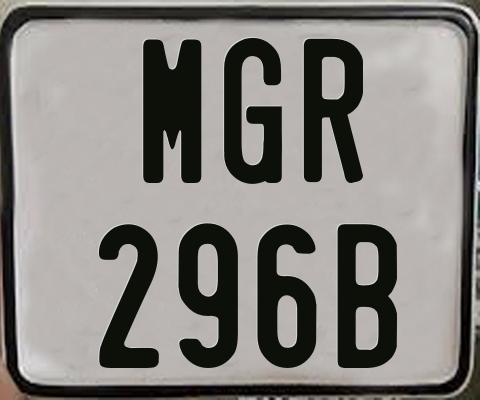2: (97, 223, 157, 368)
6: (255, 222, 317, 367)
9: (177, 221, 239, 370)
B: (337, 224, 397, 369)
G: (224, 37, 285, 189)
M: (140, 38, 203, 185)
R: (301, 37, 365, 182)
